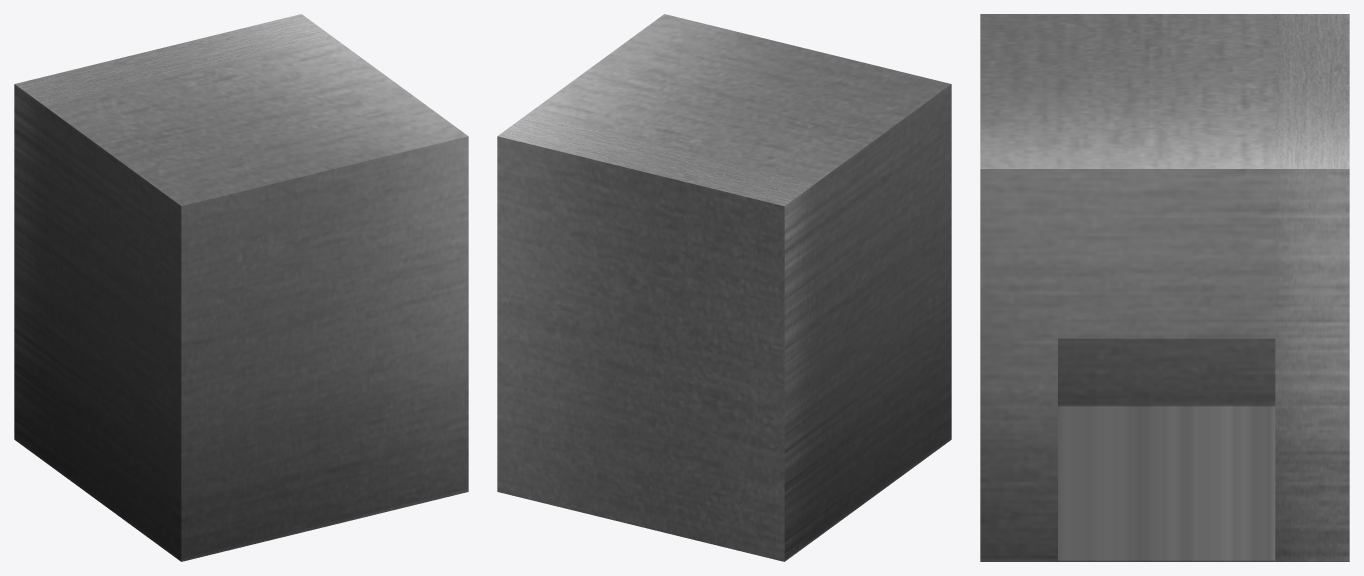
Rendered from Elevator.obj.
The picture shows the model from 3 angles, left to right: view 1: azimuth 30°, elevation 25°; view 2: azimuth 150°, elevation 25°; view 3: azimuth 270°, elevation 25°; orthographic projection. The views are drawn at different scales.
Parts seen in each view (by area): view 1: pCube1; view 2: pCube1; view 3: pCube1.
Boxes of the visible parts, x1,y1,x2,y2 form: pCube1: (14, 14, 468, 561); pCube1: (497, 14, 951, 561); pCube1: (980, 14, 1349, 561).
Size of the model in its own units: 10.07 by 11.92 by 10.14.
Materials: 1 (1 with a texture image).
